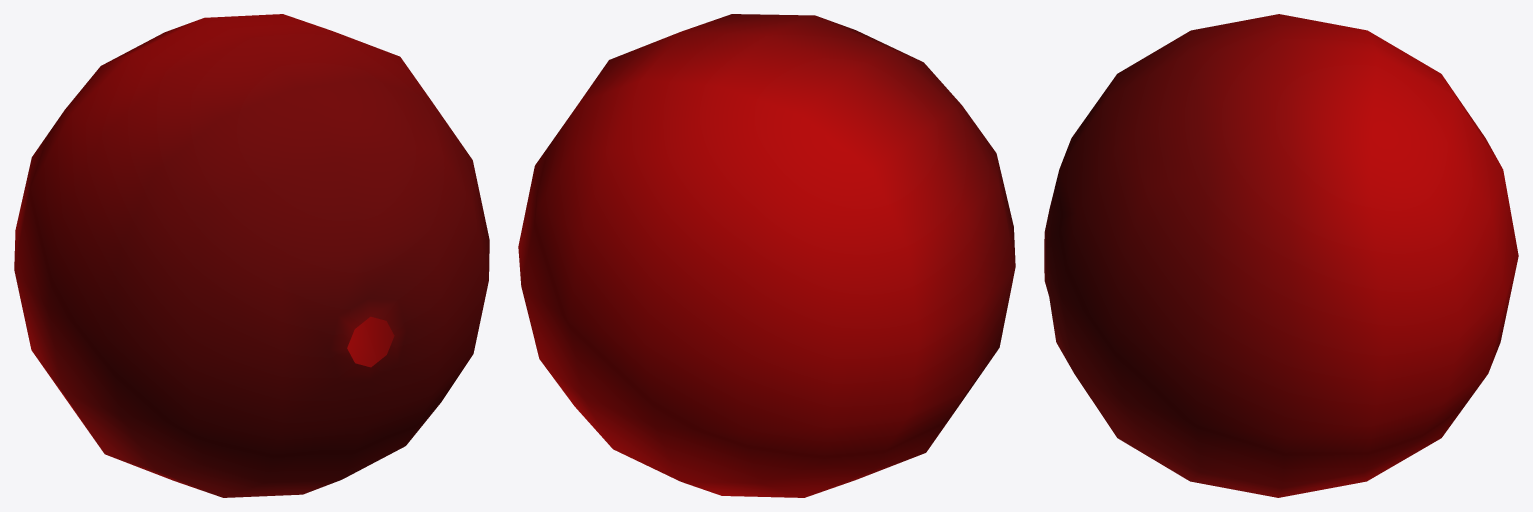
3 views of the same model, side by side, from view 1: azimuth 30°, elevation 25°; view 2: azimuth 150°, elevation 25°; view 3: azimuth 270°, elevation 25° (orthographic). The views are drawn at different scales.
Parts seen in each view (by area): view 1: color.060; view 2: color.060; view 3: color.060.
Boxes of the visible parts, <box> form: color.060: <box>14,14,489,497</box>; color.060: <box>518,14,1015,497</box>; color.060: <box>1044,14,1518,497</box>.
Size of the model in its own units: 0.5 by 0.5 by 0.4971.
